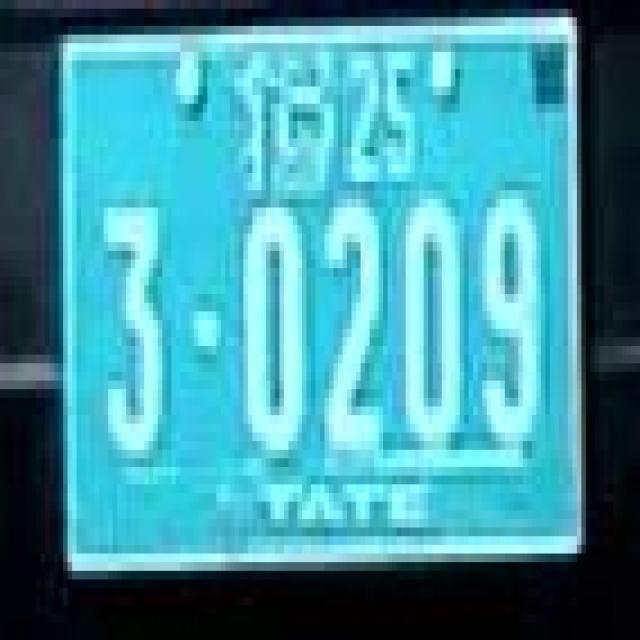State: (235, 52, 336, 206)
